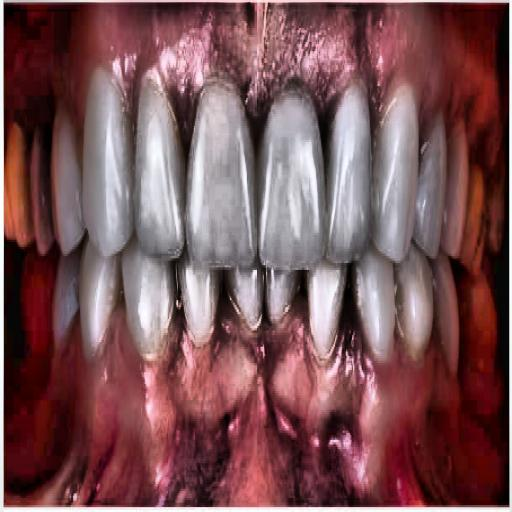Gingivitis: (62, 307, 437, 495), (63, 0, 444, 118)
